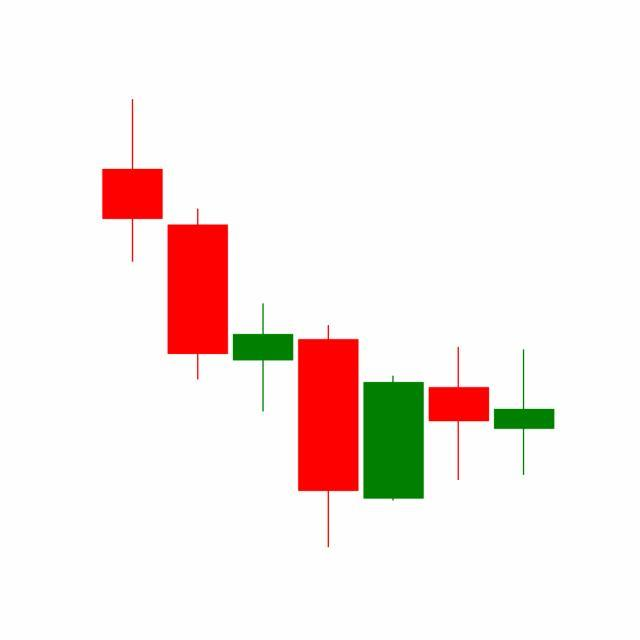Hikkake Pattern: (165, 205, 492, 548)
